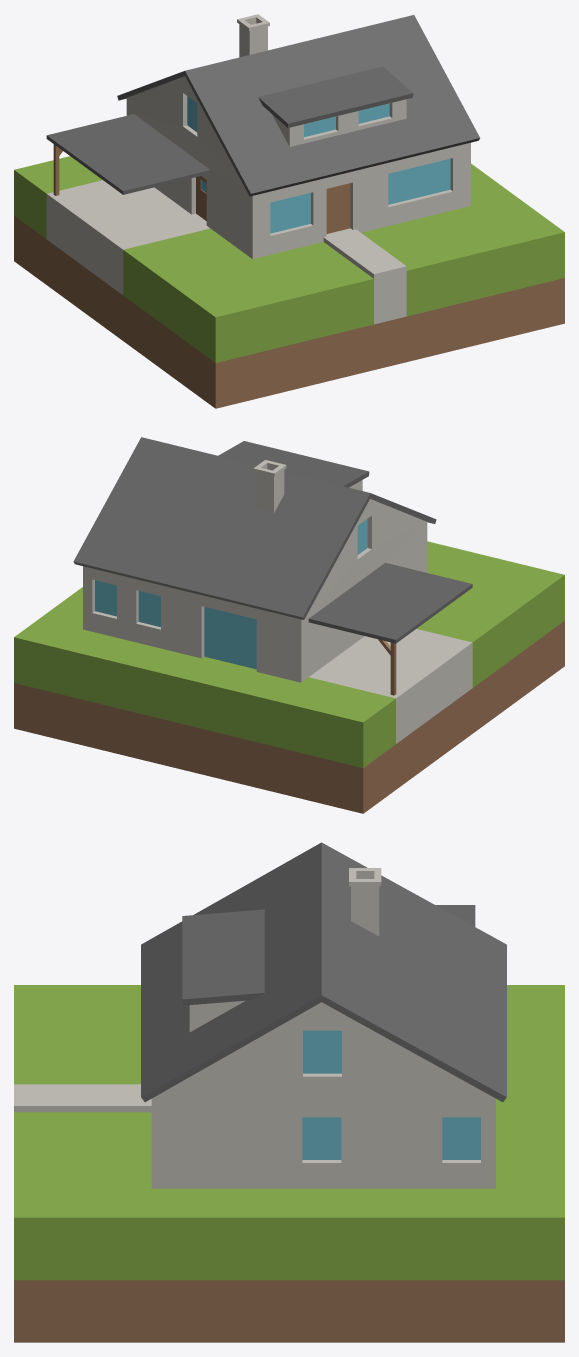
The model's file is house-small-carport-right.obj.
3 views of the same model, one above another, from view 1: azimuth 30°, elevation 25°; view 2: azimuth 150°, elevation 25°; view 3: azimuth 270°, elevation 25° (orthographic). The views are drawn at different scales.
Visible parts, largest first — view 1: house-small-carport-right_Cube.019; view 2: house-small-carport-right_Cube.019; view 3: house-small-carport-right_Cube.019.
Part boxes in pixels (bbox=[...]): house-small-carport-right_Cube.019: bbox=[14, 14, 564, 408]; house-small-carport-right_Cube.019: bbox=[14, 437, 564, 813]; house-small-carport-right_Cube.019: bbox=[14, 842, 564, 1342].
Size of the model in its own units: 8 by 5.54 by 8.
1 material, 1 textured.
